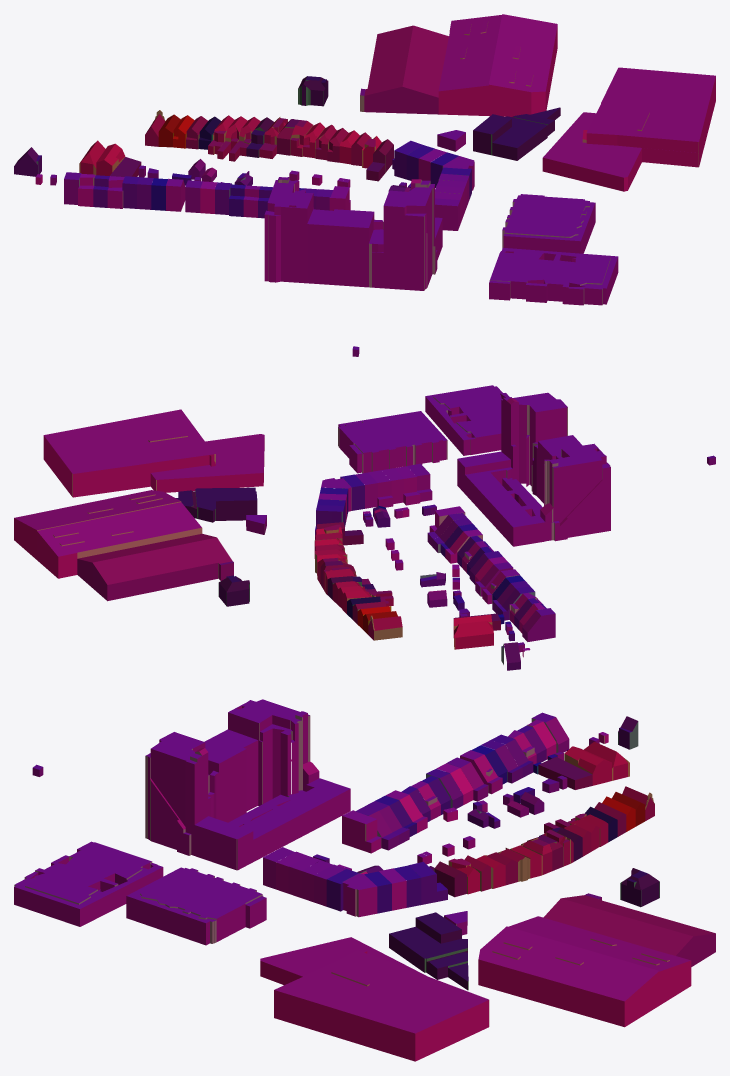
File: buildings_13_12.glb
3 renders of one model, top to bottom at view 1: azimuth 30°, elevation 25°; view 2: azimuth 150°, elevation 25°; view 3: azimuth 270°, elevation 25°, orthographic. The views are drawn at different scales.
Parts seen in each view (by area): view 1: buildings_13_12; view 2: buildings_13_12; view 3: buildings_13_12.
Part boxes in pixels (<box>): buildings_13_12: <box>14,14,715,356</box>; buildings_13_12: <box>14,385,715,670</box>; buildings_13_12: <box>14,699,715,1061</box>.
Size of the model in its own units: 242 by 34.08 by 221.
